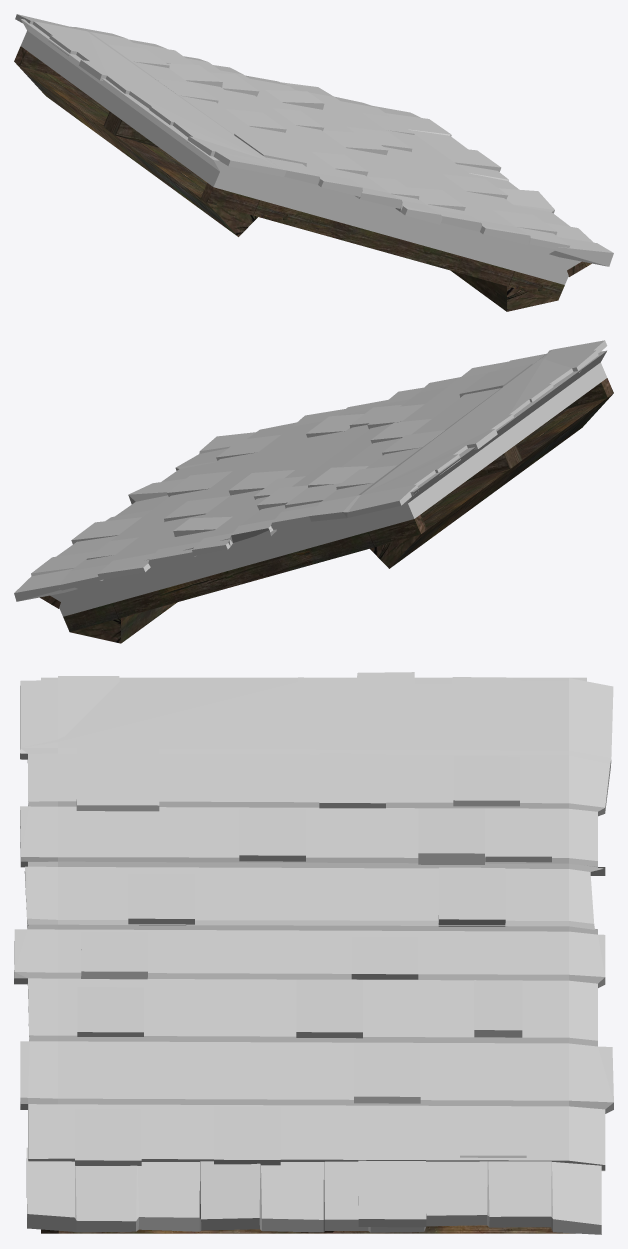
3 renders of one model, top to bottom at view 1: azimuth 30°, elevation 25°; view 2: azimuth 150°, elevation 25°; view 3: azimuth 270°, elevation 25°, orthographic. The views are drawn at different scales.
Visible parts, largest first — view 1: SM_T3_Roof_Large_Shallow_LOD0; view 2: SM_T3_Roof_Large_Shallow_LOD0; view 3: SM_T3_Roof_Large_Shallow_LOD0.
Part boxes in pixels (x1,y1,x2,y2): SM_T3_Roof_Large_Shallow_LOD0: (14,14,613,311); SM_T3_Roof_Large_Shallow_LOD0: (14,340,613,643); SM_T3_Roof_Large_Shallow_LOD0: (14,672,613,1234).
Size of the model in its own units: 3.67 by 1.96 by 3.3.
